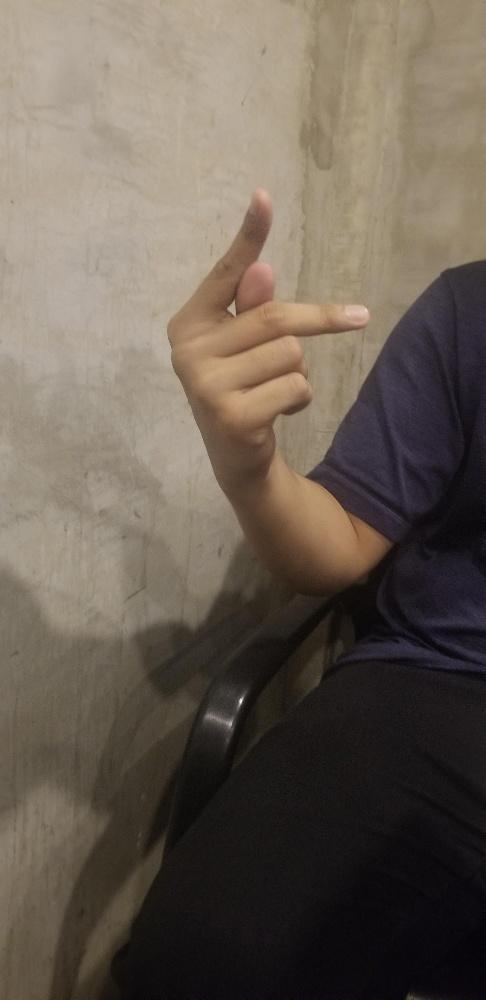k: (166, 189, 371, 469)
